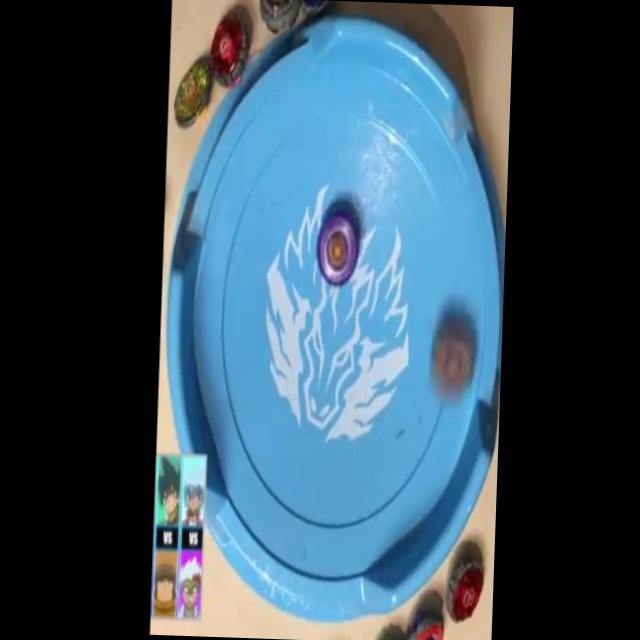Beyblade: (429, 320, 475, 394), (208, 9, 250, 89), (316, 216, 359, 286), (174, 59, 211, 128), (444, 560, 484, 622)
